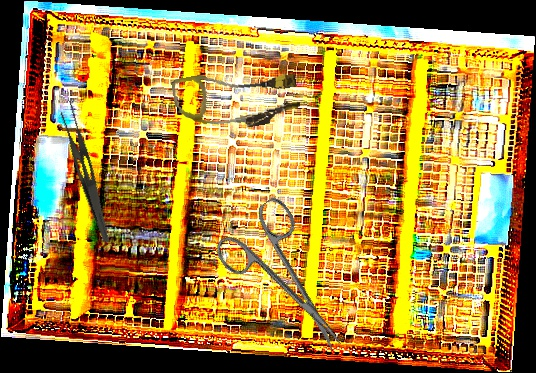Cannula: (170, 58, 303, 140)
Dressing Forceps: (51, 99, 125, 244)
Iris Scissors: (208, 194, 369, 373)
